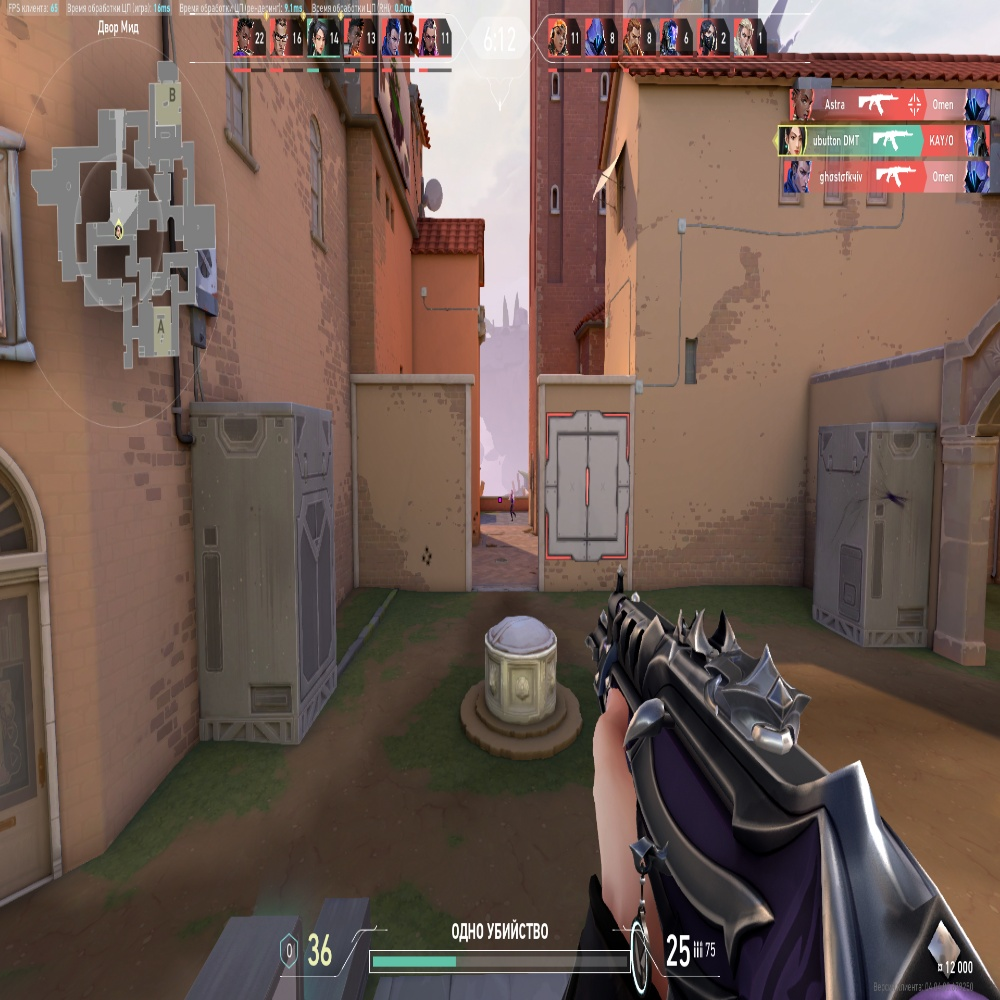body: (509, 497, 514, 504)
head: (510, 490, 513, 495)
